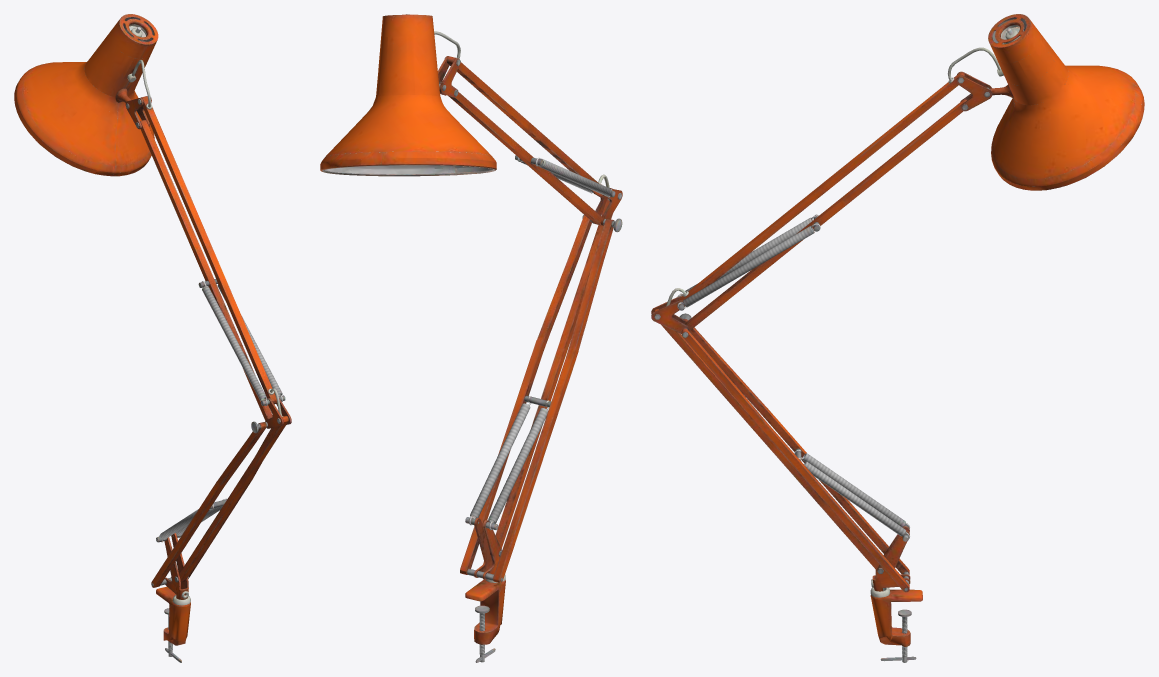
File: ph_desk_lamp_arm_01.glb
The picture shows the model from 3 angles, left to right: view 1: azimuth 30°, elevation 25°; view 2: azimuth 150°, elevation 25°; view 3: azimuth 270°, elevation 25°; orthographic projection. The views are drawn at different scales.
Parts seen in each view (by area): view 1: desk_lamp_arm_01; view 2: desk_lamp_arm_01; view 3: desk_lamp_arm_01.
Part boxes in pixels (box(x1,y1,x2,y2)): desk_lamp_arm_01: box(14, 14, 291, 662); desk_lamp_arm_01: box(320, 14, 622, 662); desk_lamp_arm_01: box(651, 14, 1144, 662).
Bounding box in the file's own units: 0.202 × 0.8926 × 0.6141.
Materials: 2 (2 with a texture image).
